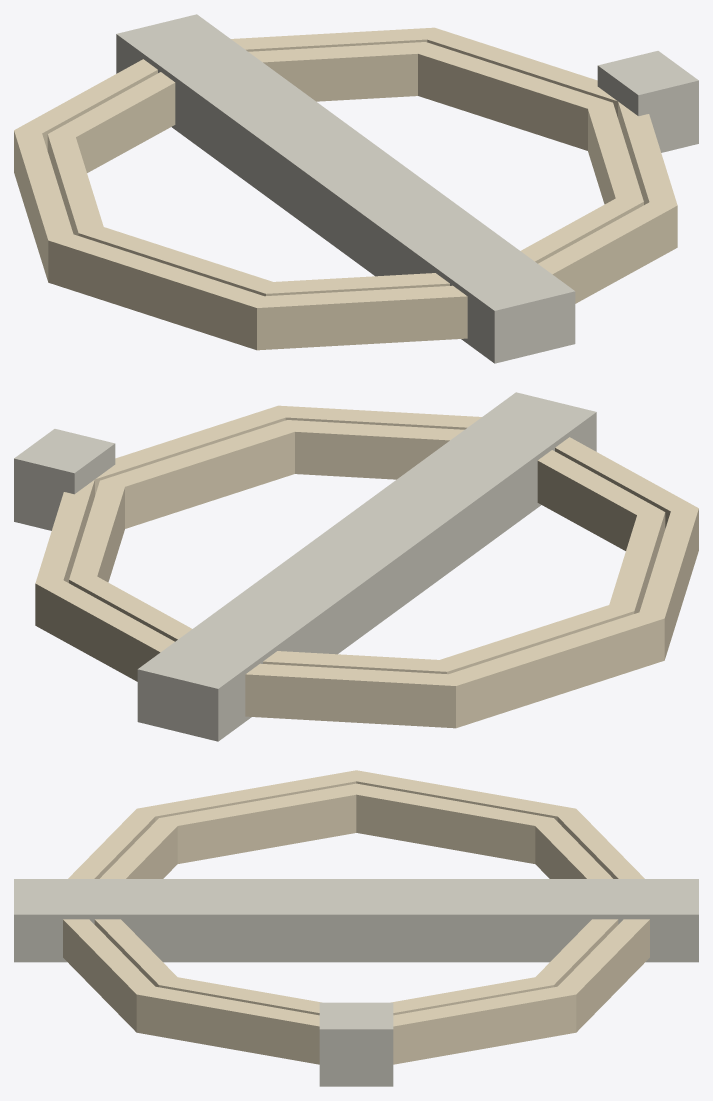
The model's file is prop-gut-string-hank.fbx.
3 renders of one model, top to bottom at view 1: azimuth 30°, elevation 25°; view 2: azimuth 150°, elevation 25°; view 3: azimuth 270°, elevation 25°, orthographic. The views are drawn at different scales.
Parts seen in each view (by area): view 1: prop-gut-string-hank; view 2: prop-gut-string-hank; view 3: prop-gut-string-hank.
Part boxes in pixels (x1,y1,x2,y2): prop-gut-string-hank: (14, 14, 698, 363); prop-gut-string-hank: (14, 392, 698, 741); prop-gut-string-hank: (14, 770, 698, 1086).
Bounding box in the file's own units: 12.5 × 1.3 × 13.
